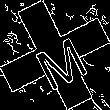M_NW: (23, 23, 87, 87)
